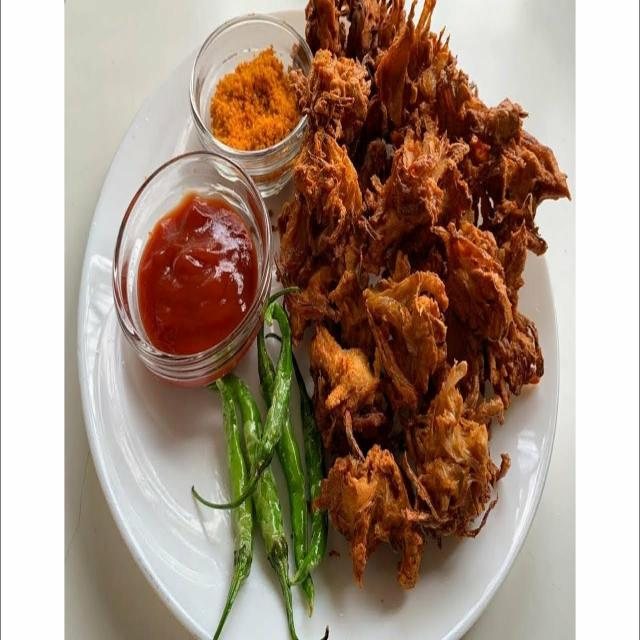Onion Pakora: (276, 0, 574, 583)
